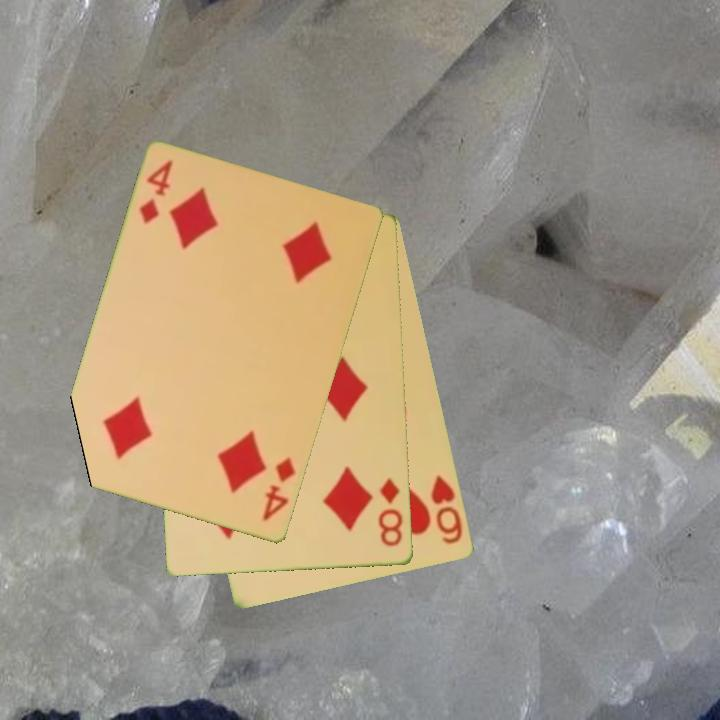4d: (135, 157, 176, 227), (259, 454, 299, 525)
6h: (427, 472, 466, 548)
8d: (375, 475, 406, 549)
